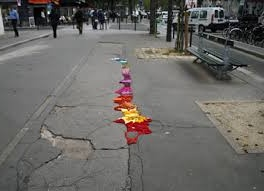pothole: (26, 123, 95, 162)
